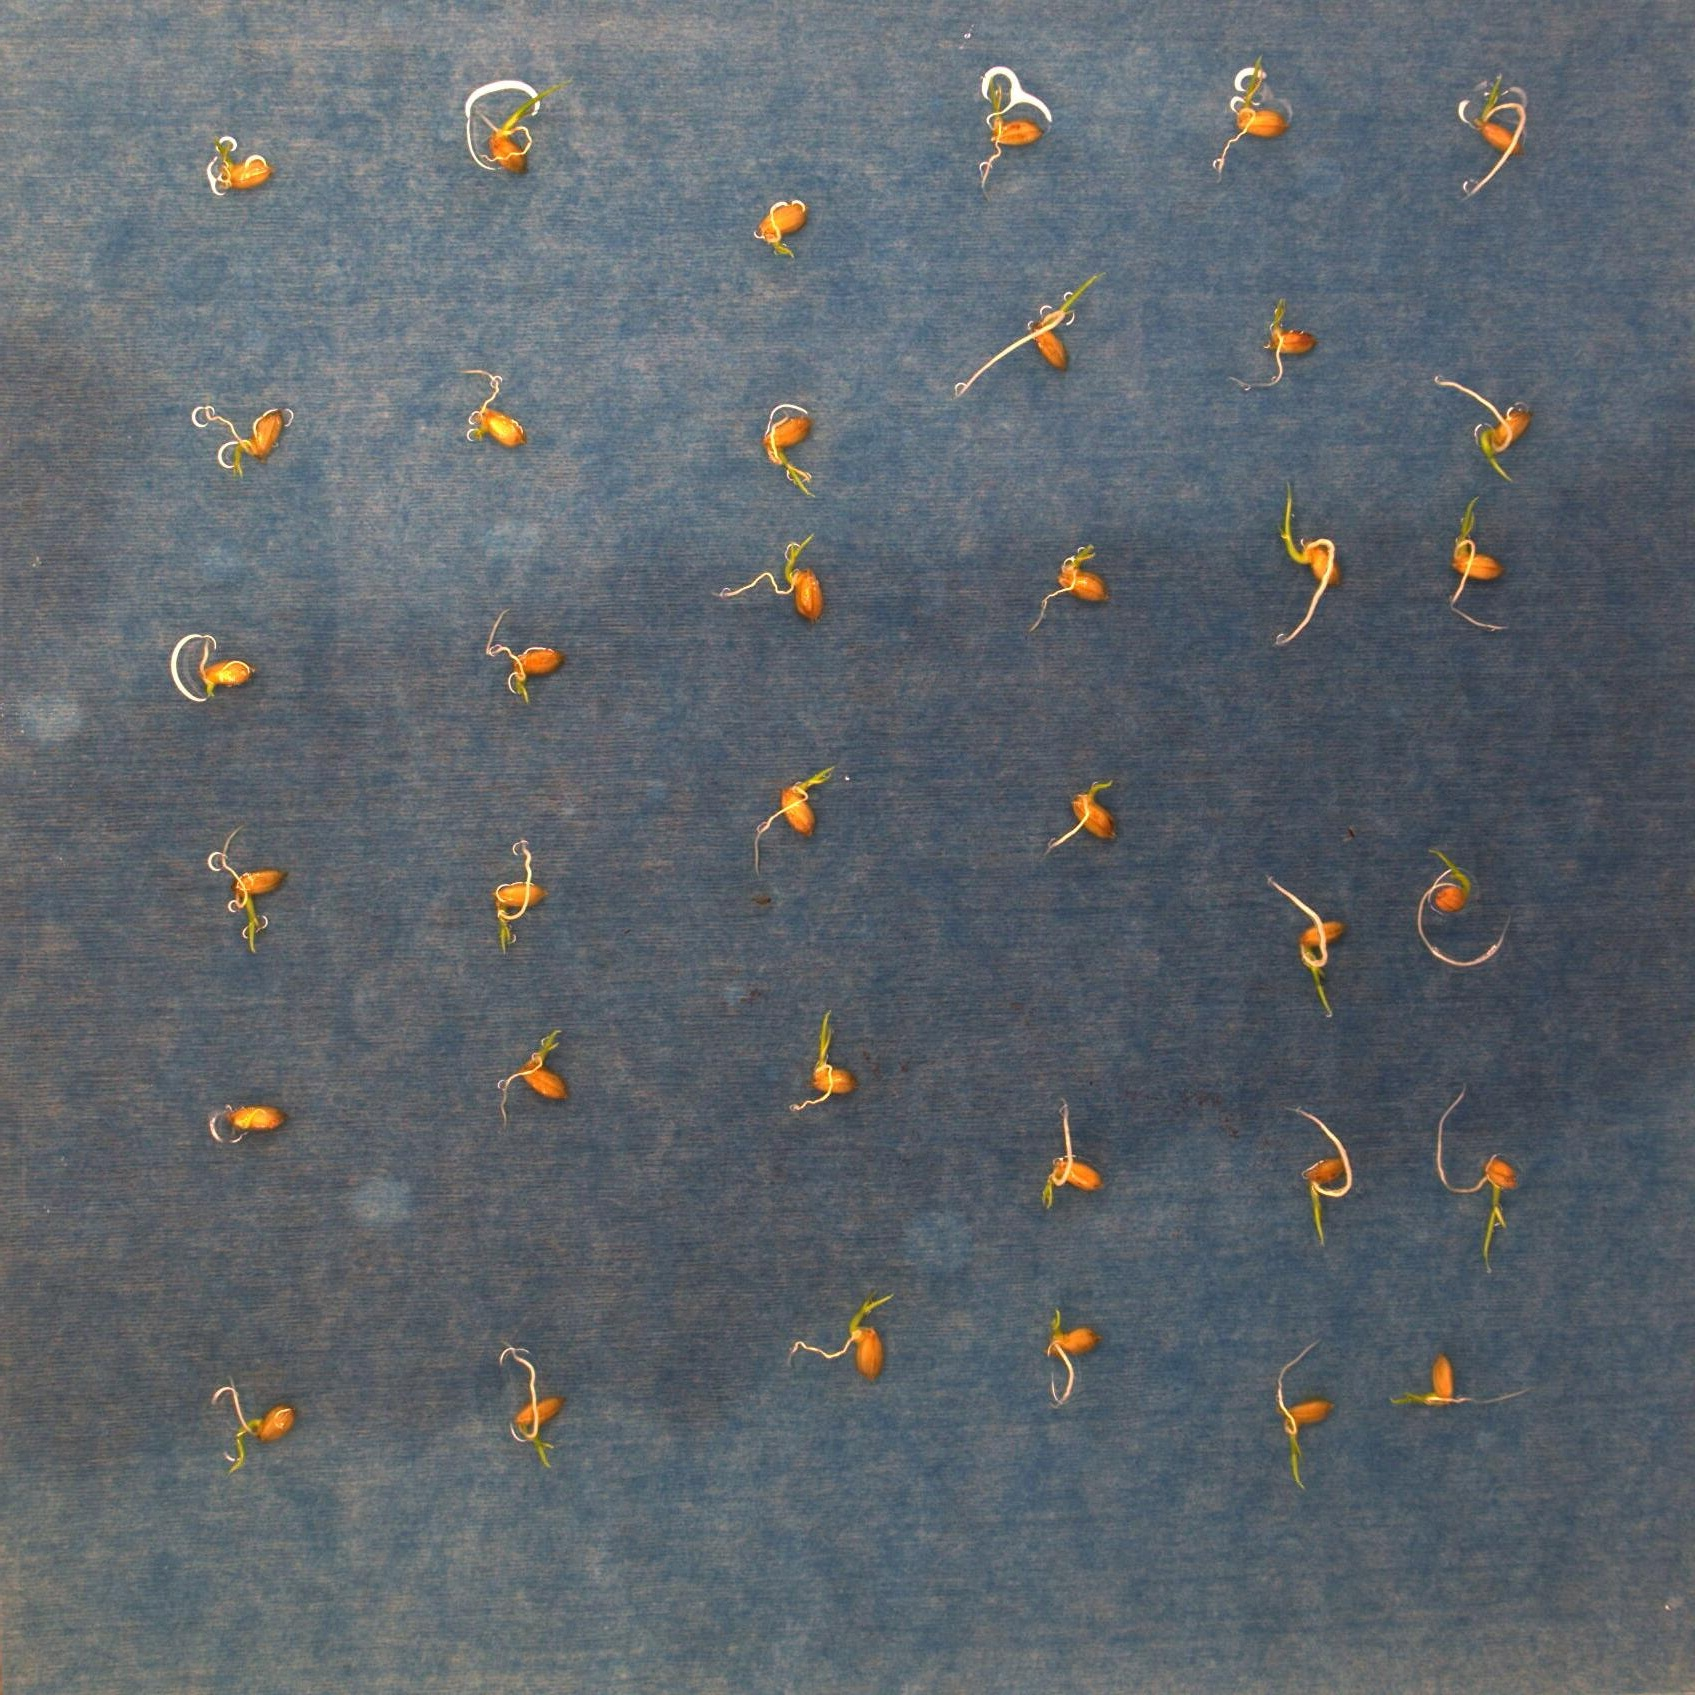not sprout: (192, 629, 255, 692), (211, 1099, 287, 1141)
sprout: (951, 272, 1111, 399), (1434, 1085, 1516, 1277), (1412, 844, 1516, 965), (1263, 871, 1347, 1018), (1273, 478, 1343, 644), (1430, 373, 1527, 483), (711, 529, 826, 622), (470, 78, 577, 177), (787, 1290, 899, 1385), (1444, 495, 1512, 640), (1271, 1338, 1333, 1489), (1215, 53, 1287, 183), (1285, 1105, 1350, 1246), (1461, 71, 1527, 205), (751, 765, 834, 872), (217, 826, 286, 955), (206, 1377, 298, 1471), (1226, 298, 1316, 394), (498, 1336, 560, 1473), (782, 1007, 857, 1114), (490, 1026, 567, 1127), (1040, 1094, 1105, 1211), (975, 79, 1042, 191), (1386, 1355, 1535, 1405), (483, 610, 560, 702), (487, 834, 546, 951), (1028, 542, 1107, 629), (200, 397, 286, 473), (1042, 778, 1121, 858), (1040, 1301, 1101, 1405), (764, 408, 820, 503), (464, 366, 525, 452), (754, 199, 807, 259), (213, 140, 272, 189)
